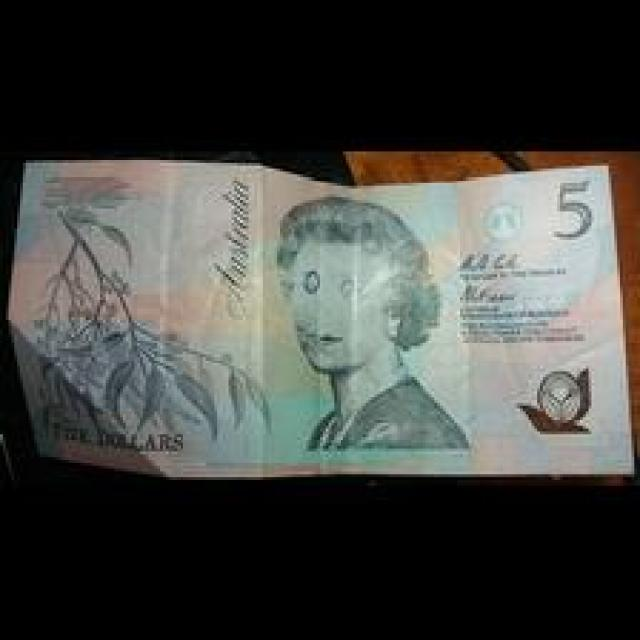banknote: (6, 156, 637, 480)
